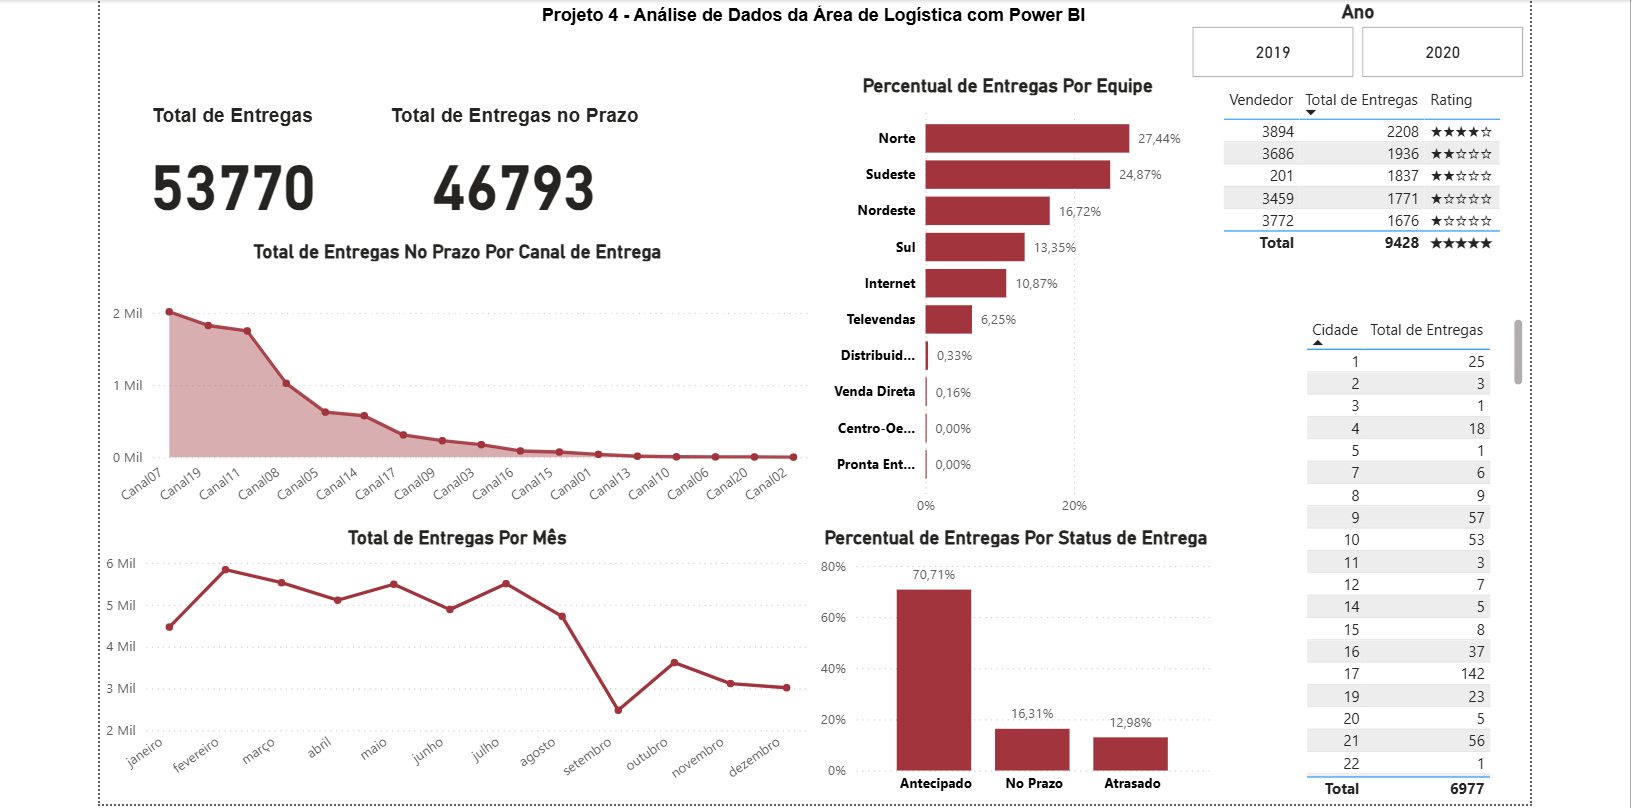

This screenshot's page, from the dashboard's own definition file:
{"tool":"powerbi","page":{"name":"Projeto 4","canvas":[1280,720],"ordinal":0},"visuals":[{"type":"areaChart","title":"Total de Entregas No Prazo Por Canal de Entrega","fields":{"Category":["Logistica.Canal_Entrega"],"Y":["Medidas.TotalEntregas"]},"box":[0,215,640,255.8],"z":0},{"type":"clusteredBarChart","title":"Percentual de Entregas Por Equipe","fields":{"Category":["Logistica.Equipe_Entrega"],"Y":["Medidas.TotalEntregas"]},"box":[640,66.1,345.3,404.6],"z":1000},{"type":"lineChart","title":"Total de Entregas Por Mês","fields":{"Category":["Logistica.Data_Entrega_Realizada.Variation.Hierarquia de datas.Mês"],"Y":["Medidas.TotalEntregas"]},"box":[0,470.8,640,249],"z":2000},{"type":"tableEx","title":"Total de Entregas com Atraso Por Cidade","fields":{"Values":["Logistica.ID_Cidade","Medidas.TotalEntregas"]},"box":[1074.6,280.3,205.1,439.7],"z":3000},{"type":"columnChart","title":"Percentual de Entregas Por Status de Entrega","fields":{"Category":["Logistica.Status_Entrega"],"Y":["Medidas.TotalEntregas"]},"box":[640,470.8,359.9,249],"z":4000},{"type":"tableEx","title":"Total de Entregas de Produtos dos Top 5 Vendedores","fields":{"Values":["Logistica.ID_Vendedor","Medidas.TotalEntregas","Medidas.Rating"]},"box":[1000.3,74.3,279.4,175.5],"z":5000},{"type":"textbox","box":[277.6,0,722.7,56.4],"z":6000},{"type":"cardVisual","title":"Total de Entregas","fields":{"Data":["Medidas.TotalEntregas"]},"box":[0,93.4,237.3,121.6],"z":7000},{"type":"cardVisual","title":"Total de Entregas no Prazo","fields":{"Data":["Medidas.TotalEntregasPrazo"]},"box":[252.9,93.4,237.3,121.6],"z":8000},{"type":"advancedSlicerVisual","fields":{"Values":["Logistica.Data_Entrega_Realizada.Variation.Hierarquia de datas.Ano"]},"box":[973.4,0,306.3,74.3],"z":8002}]}

Visuals, with their boxes on the page's 1280x720 design canvas (x1, y1, x2, y2). These are canvas units, not pixel positions in the 1632x808 screenshot, which may show the page scaled, cropped or inside an application window:
"Total de Entregas No Prazo Por Canal de Entrega" areaChart: (0,215,640,471)
"Percentual de Entregas Por Equipe" clusteredBarChart: (640,66,985,471)
"Total de Entregas Por Mês" lineChart: (0,471,640,720)
"Total de Entregas com Atraso Por Cidade" tableEx: (1075,280,1280,720)
"Percentual de Entregas Por Status de Entrega" columnChart: (640,471,1000,720)
"Total de Entregas de Produtos dos Top 5 Vendedores" tableEx: (1000,74,1280,250)
textbox: (278,0,1000,56)
"Total de Entregas" cardVisual: (0,93,237,215)
"Total de Entregas no Prazo" cardVisual: (253,93,490,215)
advancedSlicerVisual - Logistica.Data_Entrega_Realizada.Variation.Hierarquia de datas.Ano: (973,0,1280,74)
